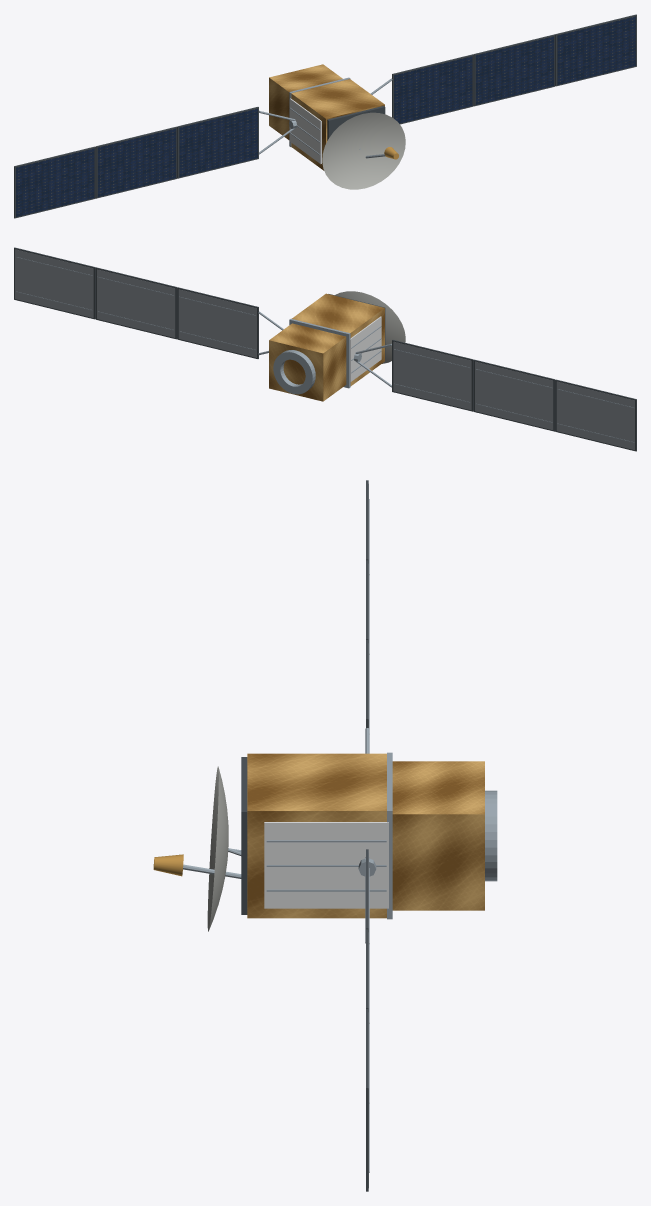
Rendered from beidou-1.glb.
The picture shows the model from 3 angles, top to bottom: view 1: azimuth 30°, elevation 25°; view 2: azimuth 150°, elevation 25°; view 3: azimuth 270°, elevation 25°; orthographic projection. The views are drawn at different scales.
Parts seen in each view (by area): view 1: Solar cell panel (×6), Deck-mounted reflector, Solar panel frame (×6), Payload module, Service module, Radiator face, Earth-facing deck; view 2: Rear array substrate (×6), Service module, Solar panel frame (×6), Payload module, Radiator face, Launch adapter ring, Deck-mounted reflector, Module interface; view 3: Service module, Payload module, Radiator face, Deck-mounted reflector, Launch adapter ring, Earth-facing deck.
Part boxes in pixels (x1=…): Solar cell panel (×6): x1=16, y1=16, x2=635, y2=217; Deck-mounted reflector: x1=322, y1=112, x2=405, y2=189; Solar panel frame (×6): x1=14, y1=14, x2=636, y2=218; Payload module: x1=291, y1=79, x2=384, y2=170; Service module: x1=269, y1=64, x2=342, y2=139; Radiator face: x1=289, y1=98, x2=321, y2=163; Earth-facing deck: x1=327, y1=106, x2=385, y2=140; Rear array substrate (×6): x1=15, y1=249, x2=634, y2=450; Service module: x1=269, y1=323, x2=346, y2=401; Solar panel frame (×6): x1=14, y1=247, x2=636, y2=451; Payload module: x1=292, y1=293, x2=384, y2=385; Radiator face: x1=350, y1=316, x2=381, y2=382; Launch adapter ring: x1=273, y1=350, x2=315, y2=394; Deck-mounted reflector: x1=335, y1=291, x2=405, y2=363; Module interface: x1=289, y1=318, x2=350, y2=388; Service module: x1=392, y1=761, x2=484, y2=910; Payload module: x1=247, y1=753, x2=386, y2=918; Radiator face: x1=264, y1=822, x2=388, y2=908; Deck-mounted reflector: x1=207, y1=766, x2=228, y2=931; Launch adapter ring: x1=485, y1=790, x2=497, y2=881; Earth-facing deck: x1=241, y1=757, x2=247, y2=914.
Bounding box in the file's own units: 17.98 × 2 × 4.3.
8 materials, 2 textured.
